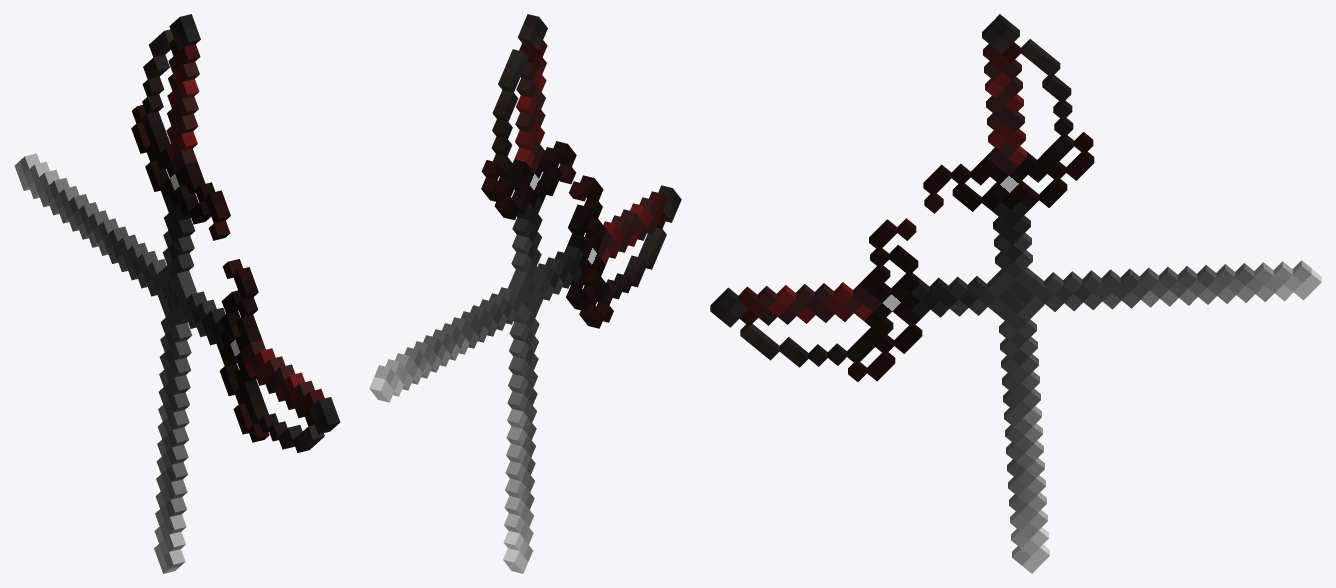
File: witherite_rapier.glb
3 views of the same model, side by side, from view 1: azimuth 30°, elevation 25°; view 2: azimuth 150°, elevation 25°; view 3: azimuth 270°, elevation 25° (orthographic). The views are drawn at different scales.
Parts seen in each view (by area): view 1: off__Tool_L, main__Tool_R; view 2: off__Tool_L, main__Tool_R; view 3: main__Tool_R, off__Tool_L.
Part boxes in pixels (box(x1,y1,x2,y2)): off__Tool_L: box(131, 14, 230, 573); main__Tool_R: box(14, 153, 340, 452); off__Tool_L: box(481, 14, 576, 573); main__Tool_R: box(369, 175, 681, 402); main__Tool_R: box(710, 218, 1321, 381); off__Tool_L: box(923, 14, 1094, 573).
Bounding box in the file's own units: 0.0469 × 2.12 × 2.12.
1 material, 1 textured.
